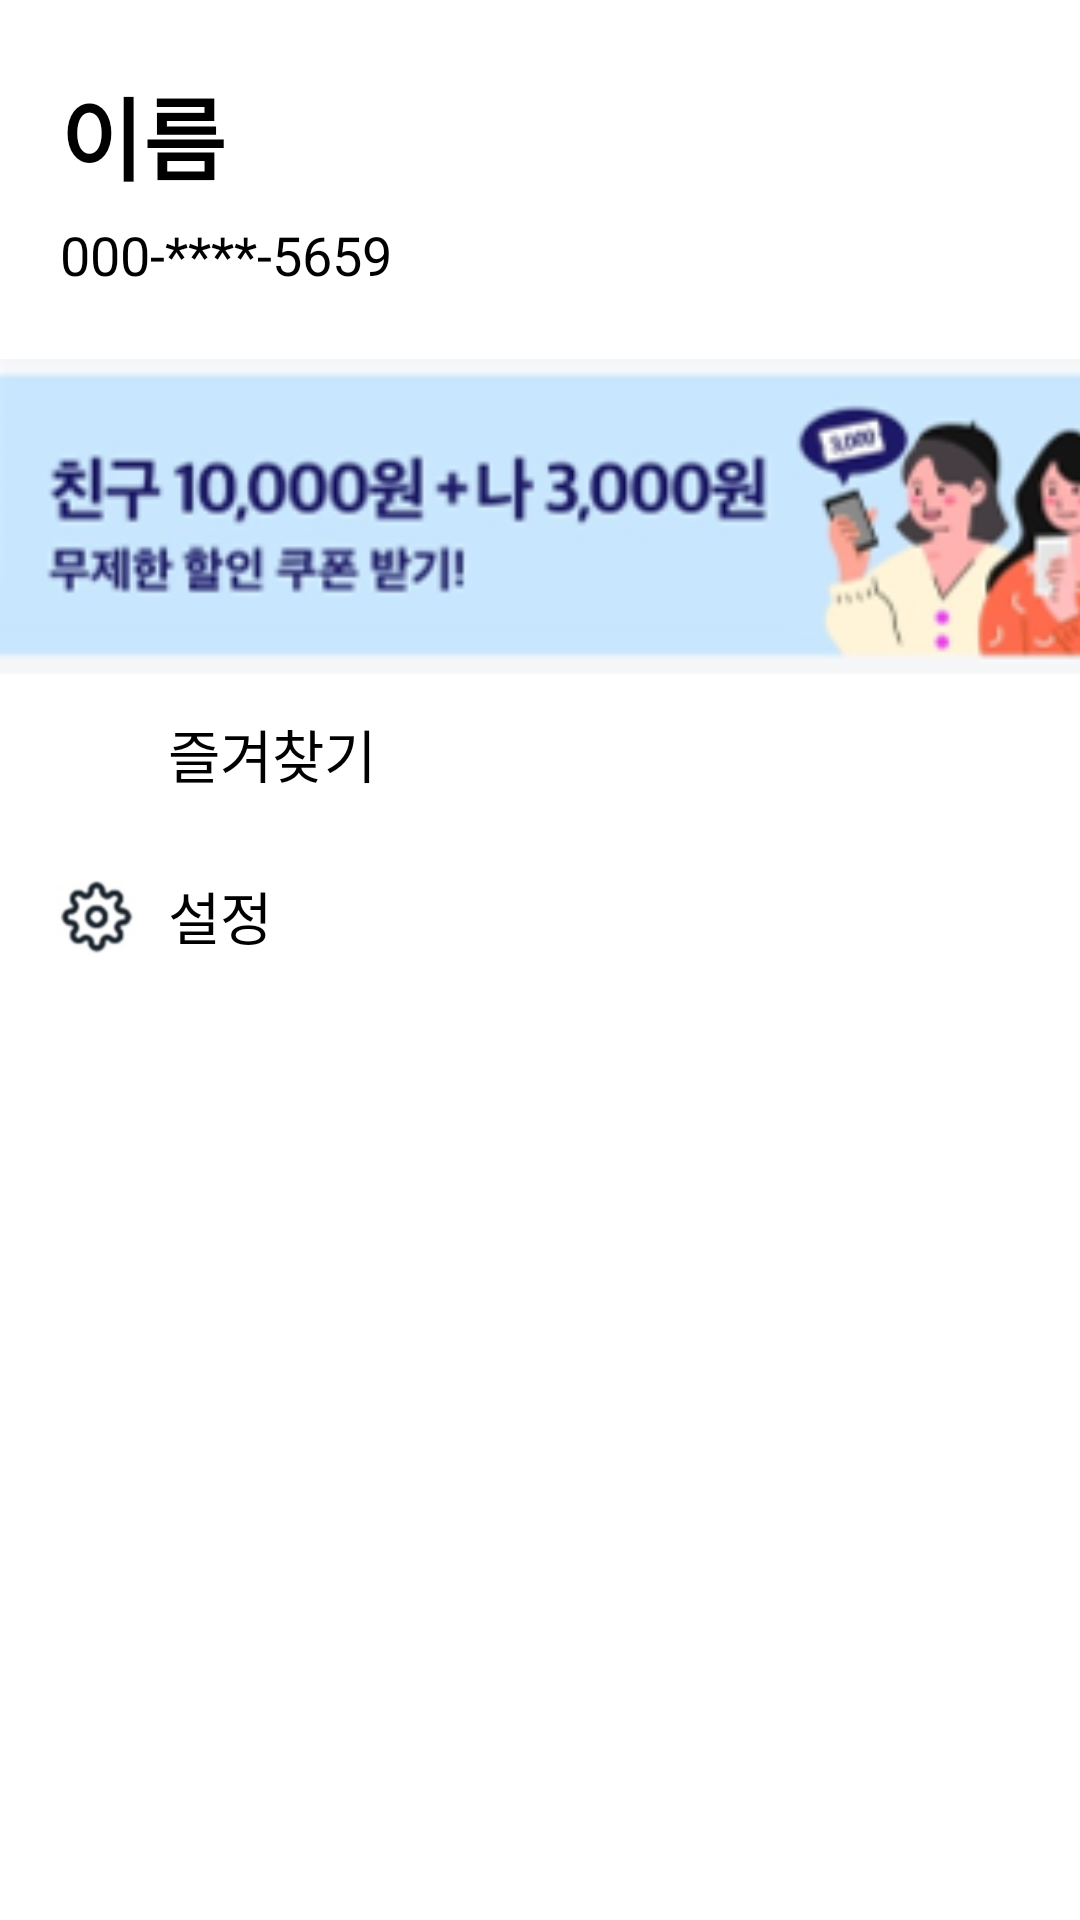

Icons on this 1080 × 1920 Android screen, each with the point to tap as (x=x, y=y):
setting: (x=97, y=917)
